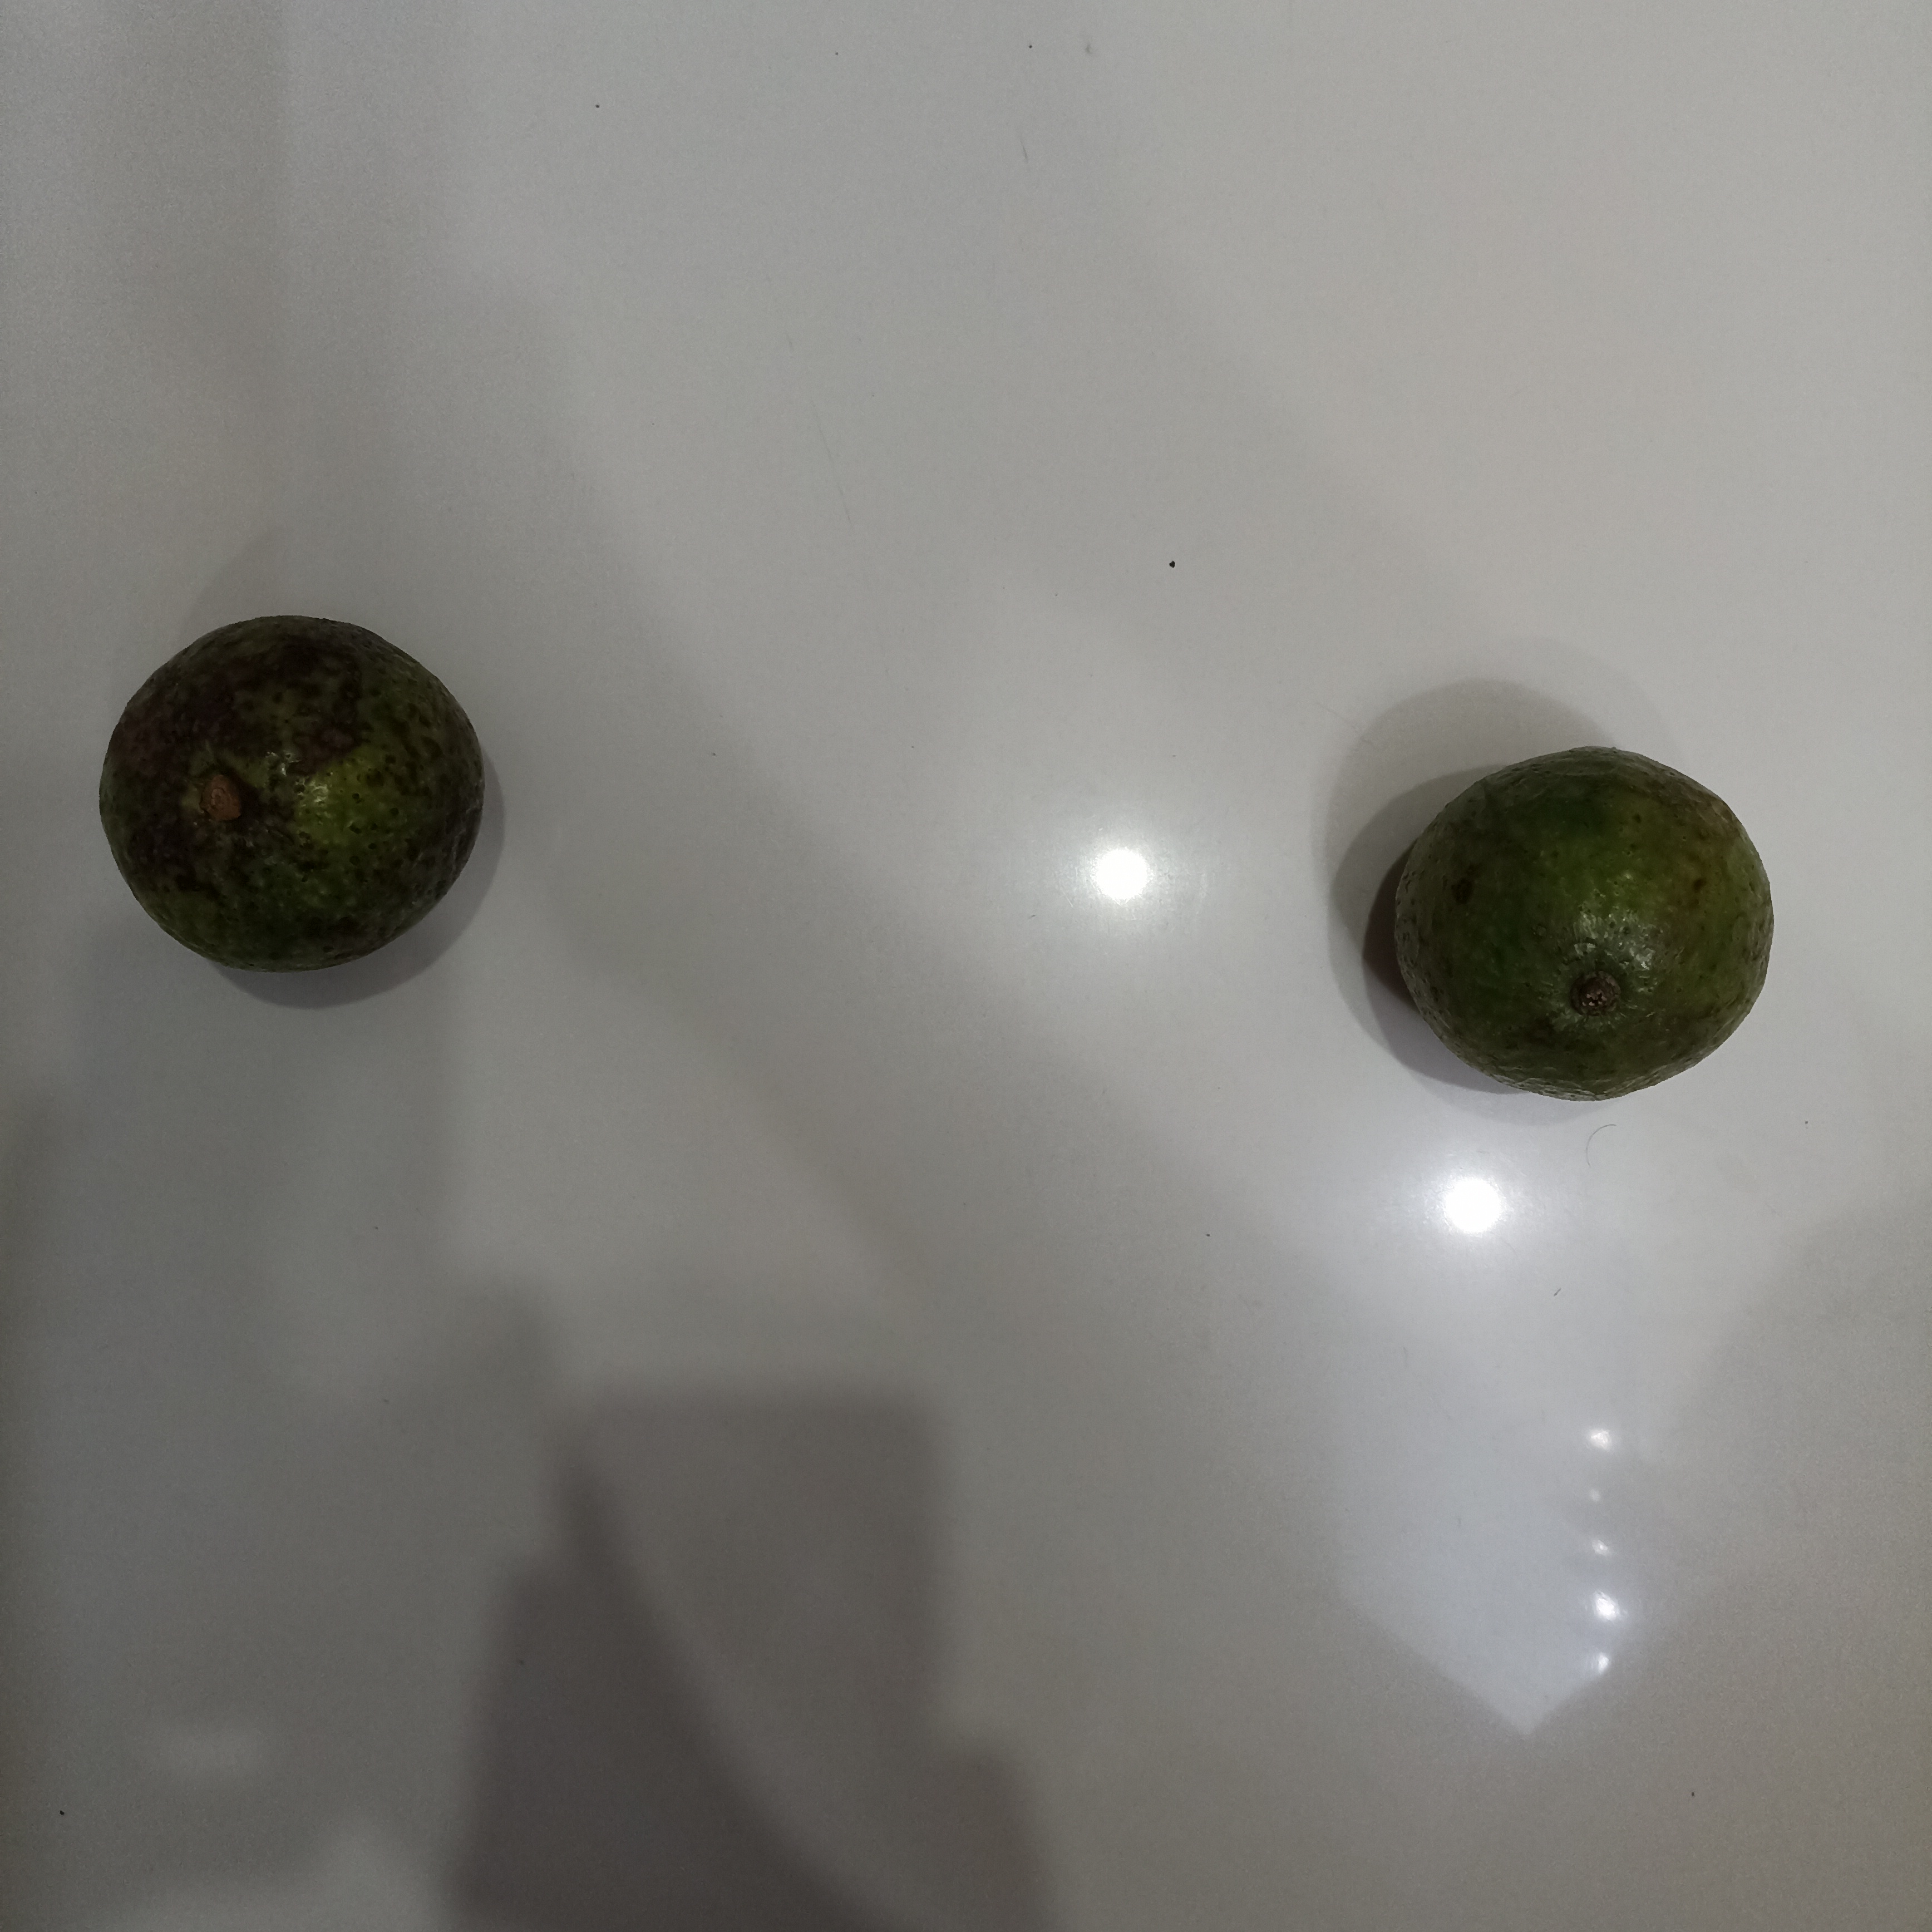Bo: (92, 619, 488, 980), (1394, 738, 1775, 1102)
